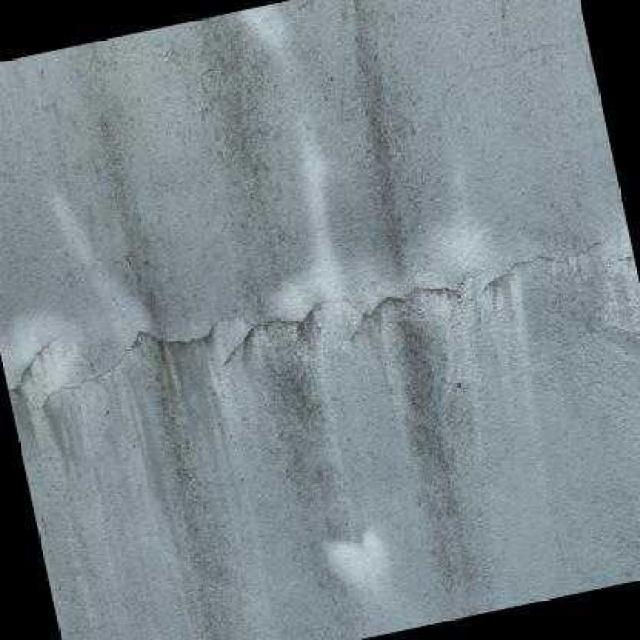D00: (227, 282, 457, 364), (51, 327, 215, 397), (482, 241, 570, 299), (6, 337, 48, 399)
